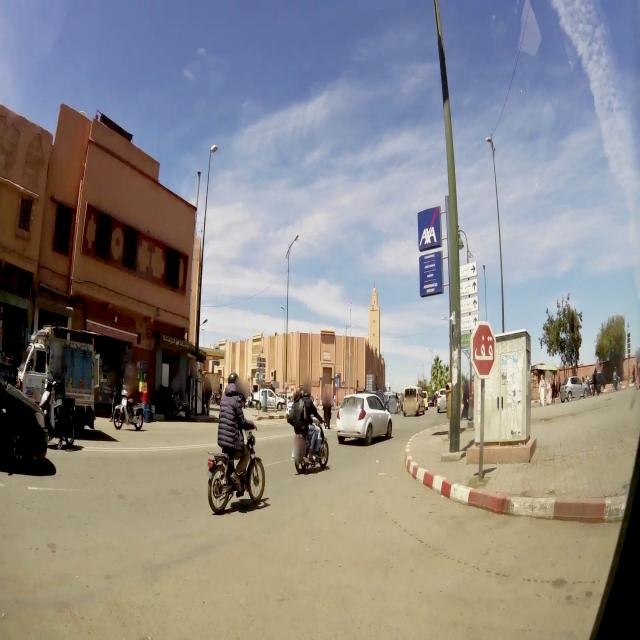bike: (207, 414, 266, 516), (292, 404, 330, 475), (113, 389, 144, 431)
car: (18, 325, 98, 428), (0, 344, 48, 474), (336, 392, 393, 445), (560, 374, 586, 402), (402, 385, 423, 417), (259, 388, 276, 409), (285, 395, 296, 424), (436, 388, 448, 414), (420, 390, 429, 411), (430, 390, 438, 406)
